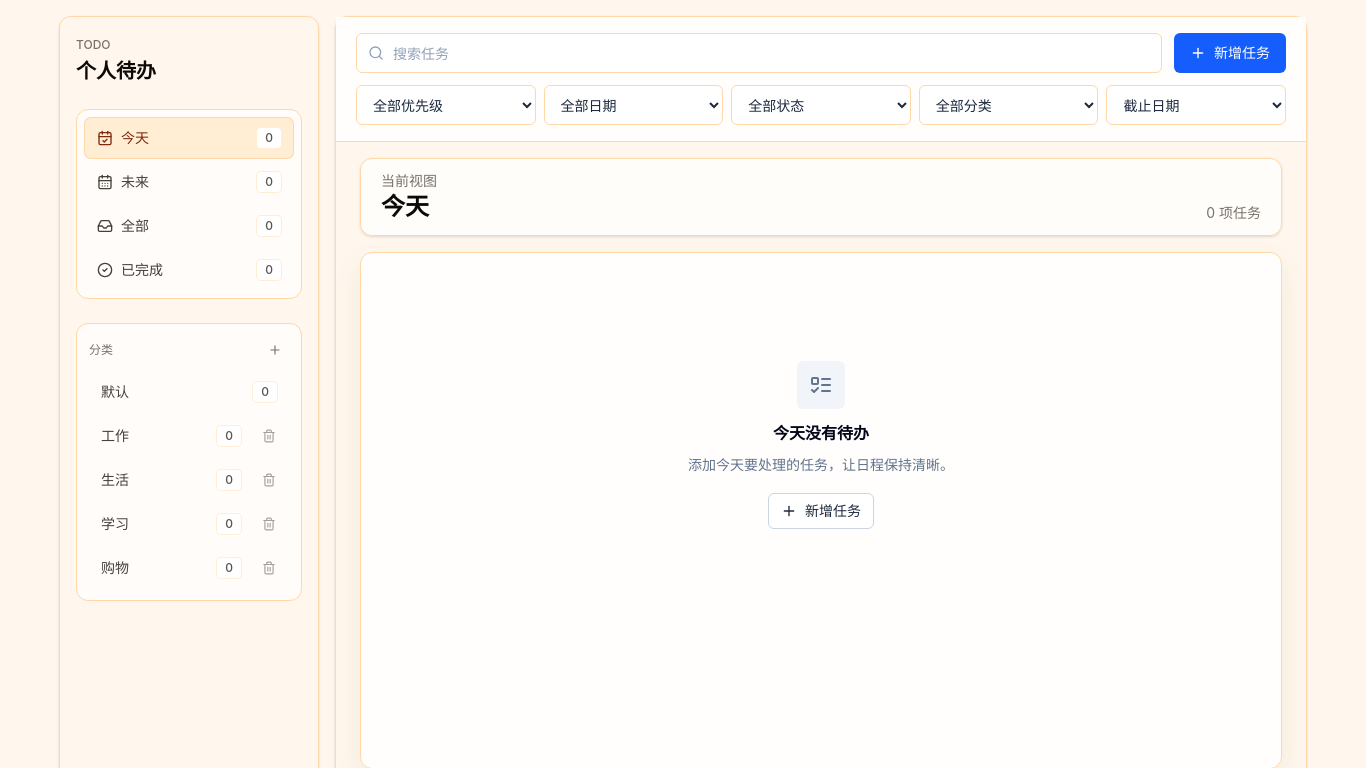
Test case: App layout › creates a todo in today view and shows it immediately when due date is omitted
Click the 1st button "新增任务".
click(1230, 53)  # box top-left (1174, 33), bottom-right (1286, 73)
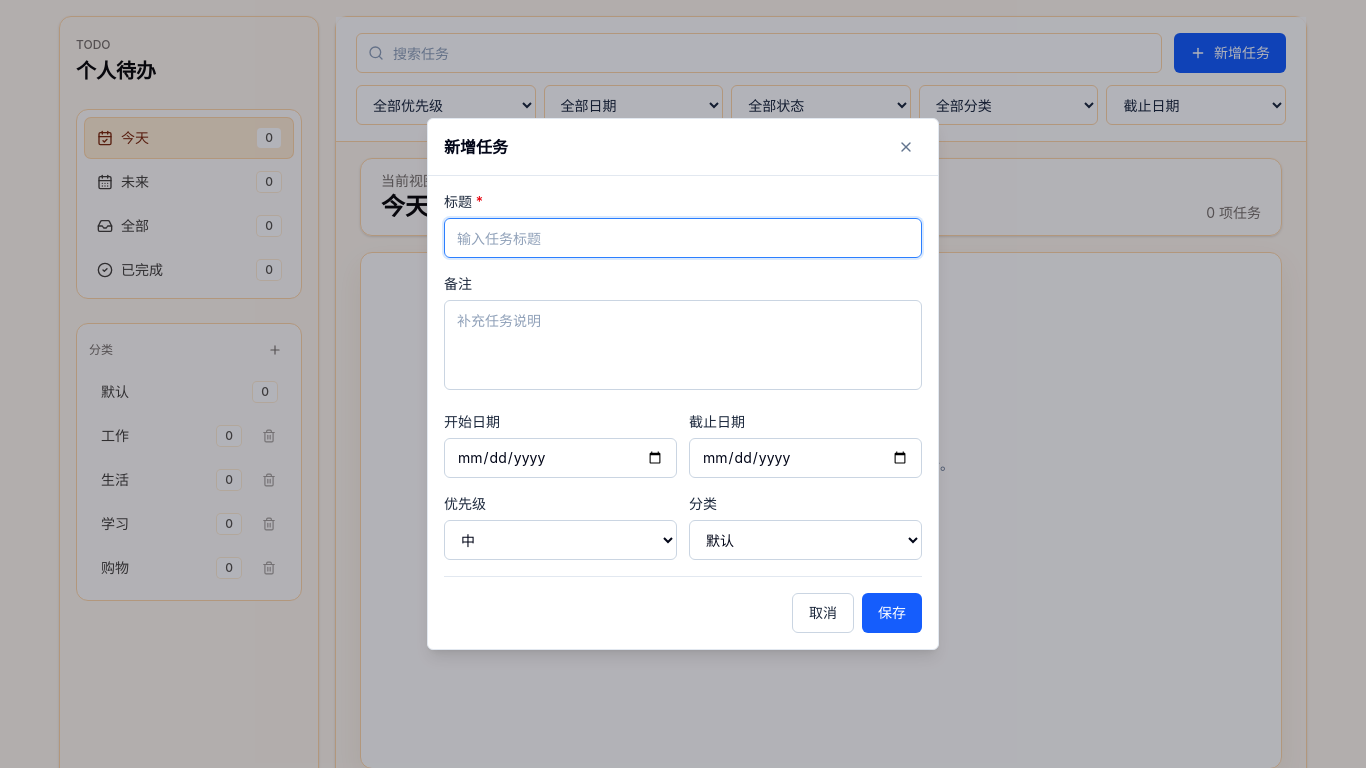
Type "今天新建任务" into the field labelled "标题".
click(683, 238); type("今天新建任务")  # box top-left (444, 218), bottom-right (922, 258)
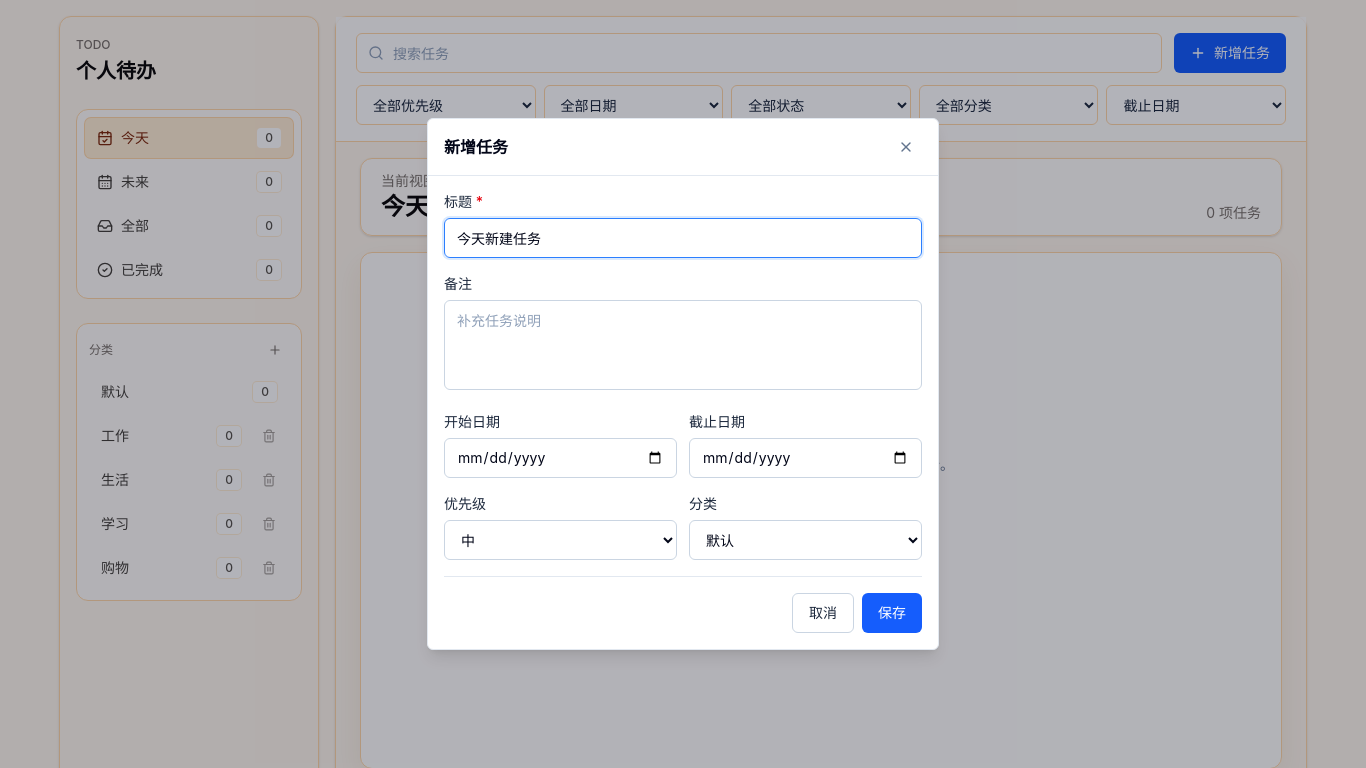
Click the button "保存".
click(892, 613)  # box top-left (862, 593), bottom-right (922, 633)
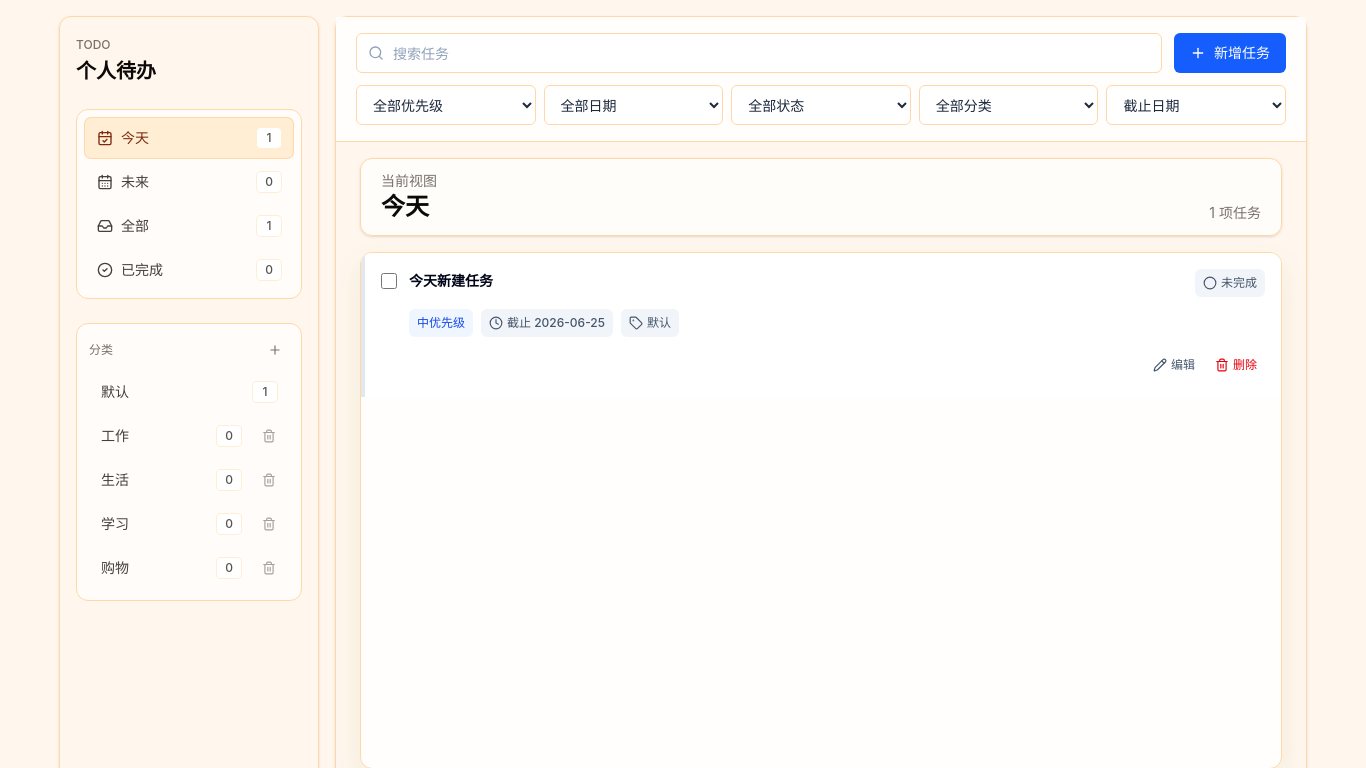
expect the heading "今天新建任务" is shown: met, box top-left (409, 269), bottom-right (493, 293)
expect the text "截止 2026-06-25" is shown: met, box top-left (481, 309), bottom-right (613, 337)
